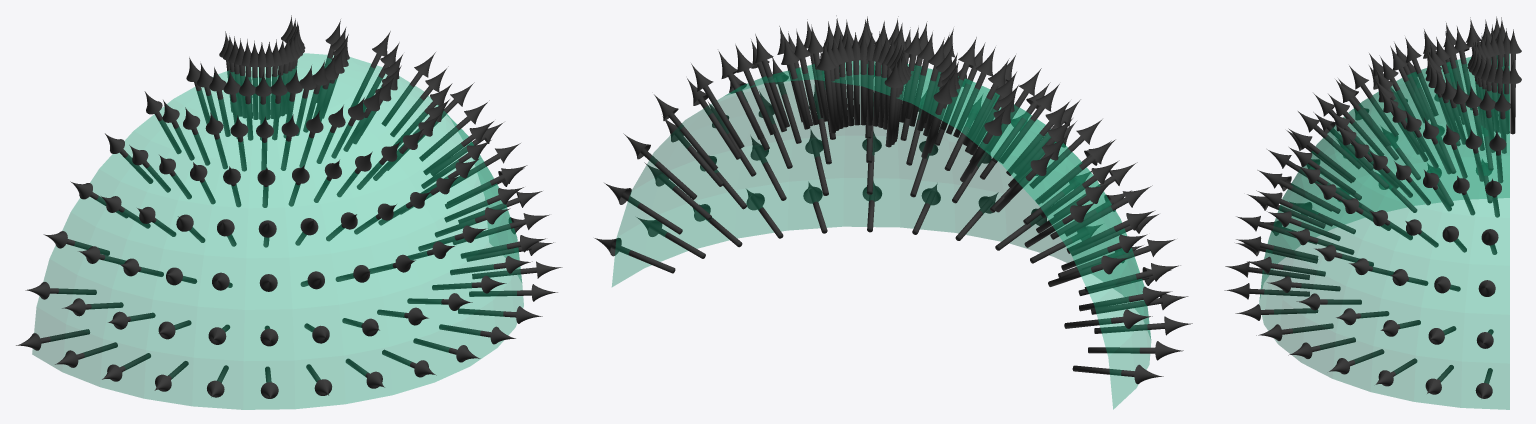
Rendered from 18_Flux through quarter sphere.glb.
3 renders of one model, left to right at view 1: azimuth 30°, elevation 25°; view 2: azimuth 150°, elevation 25°; view 3: azimuth 270°, elevation 25°, orthographic. The views are drawn at different scales.
Visible parts, largest first — view 1: Sphere, Arrow.192, Arrow.153, Arrow.155, Arrow.190, Arrow.164, Arrow.199, Arrow.129, Arrow.162, Arrow.197, Arrow.188, Arrow.168 (+13 smaller); view 2: Sphere, Arrow.353, Arrow.141, Arrow.143, Arrow.367, Arrow.151, Arrow.343, Arrow.153, Arrow.129, Arrow.131, Arrow.133, Arrow.297 (+50 smaller); view 3: Sphere, Arrow.250, Arrow.228, Arrow.252, Arrow.270, Arrow.248, Arrow.320, Arrow.230, Arrow.275, Arrow.299, Arrow.277, Arrow.272 (+63 smaller).
Boxes of the visible parts, x1,y1,x2,y2 form: Sphere: (32,53,523,409); Arrow.192: (469,284,557,301); Arrow.153: (390,66,448,136); Arrow.155: (419,100,489,161); Arrow.190: (460,235,545,258); Arrow.164: (447,165,527,206); Arrow.199: (458,306,542,323); Arrow.129: (381,52,435,126); Arrow.162: (423,121,493,175); Arrow.197: (450,256,532,275); Arrow.188: (444,187,523,222); Arrow.168: (472,261,562,279); Sphere: (612,60,1151,409); Arrow.353: (1088,341,1183,360); Arrow.141: (781,36,810,129); Arrow.143: (735,44,775,135); Arrow.367: (1079,286,1172,311); Arrow.151: (755,34,789,127); Arrow.343: (1084,263,1180,292); Arrow.153: (718,51,763,139); Arrow.129: (691,63,744,148); Arrow.131: (654,94,717,170); Arrow.133: (623,133,696,199); Arrow.297: (953,47,995,137); Sphere: (1259,54,1509,409); Arrow.250: (1236,236,1318,260); Arrow.228: (1247,256,1325,276); Arrow.252: (1224,283,1309,299); Arrow.270: (1288,128,1355,181); Arrow.248: (1256,190,1333,226); Arrow.320: (1405,37,1438,116); Arrow.230: (1235,304,1318,320); Arrow.275: (1335,79,1388,146); Arrow.299: (1349,65,1398,136); Arrow.277: (1298,111,1361,169); Arrow.272: (1257,170,1333,211).
Size of the model in its own units: 2.29 by 1.15 by 1.19.
